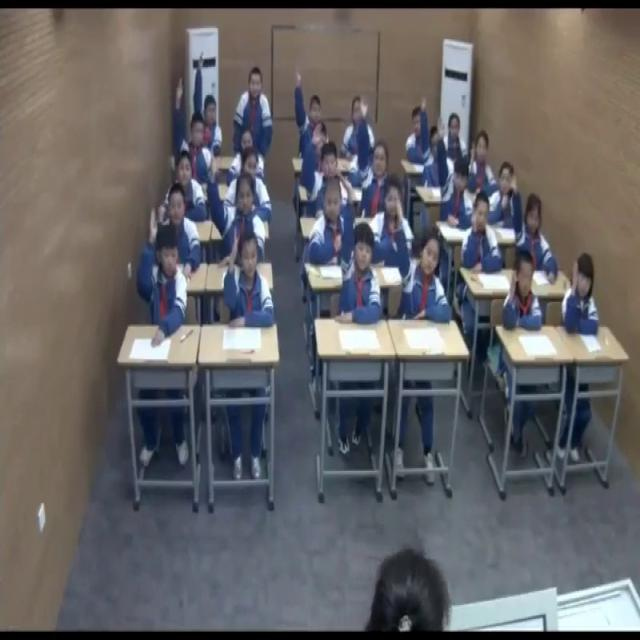focused: (232, 60, 276, 165), (307, 177, 351, 273), (154, 186, 200, 277), (370, 179, 417, 264), (225, 146, 272, 218), (341, 95, 378, 162), (176, 150, 208, 226), (488, 161, 519, 230), (228, 128, 266, 184), (402, 104, 432, 162), (444, 112, 471, 165)
raising_hand: (391, 187, 452, 324), (136, 205, 188, 349), (337, 174, 386, 326), (207, 146, 266, 268), (220, 220, 275, 332), (507, 168, 558, 288), (433, 112, 474, 235), (355, 93, 394, 217), (301, 119, 345, 222), (173, 74, 213, 182), (461, 190, 506, 280), (502, 249, 547, 334), (292, 63, 330, 163), (560, 250, 601, 340), (194, 50, 223, 156)
